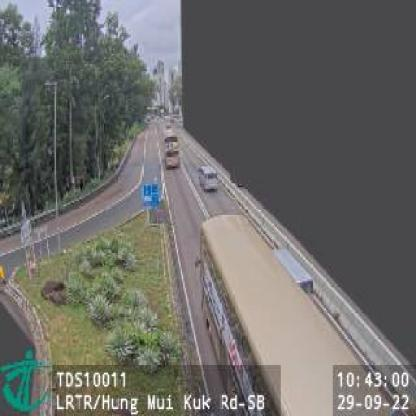Bus: (186, 208, 392, 411), (160, 127, 181, 168)
Car: (198, 163, 222, 191)
